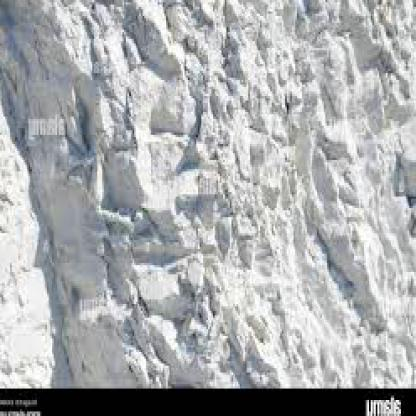Sedimentary_Chalk: (1, 0, 413, 375)
